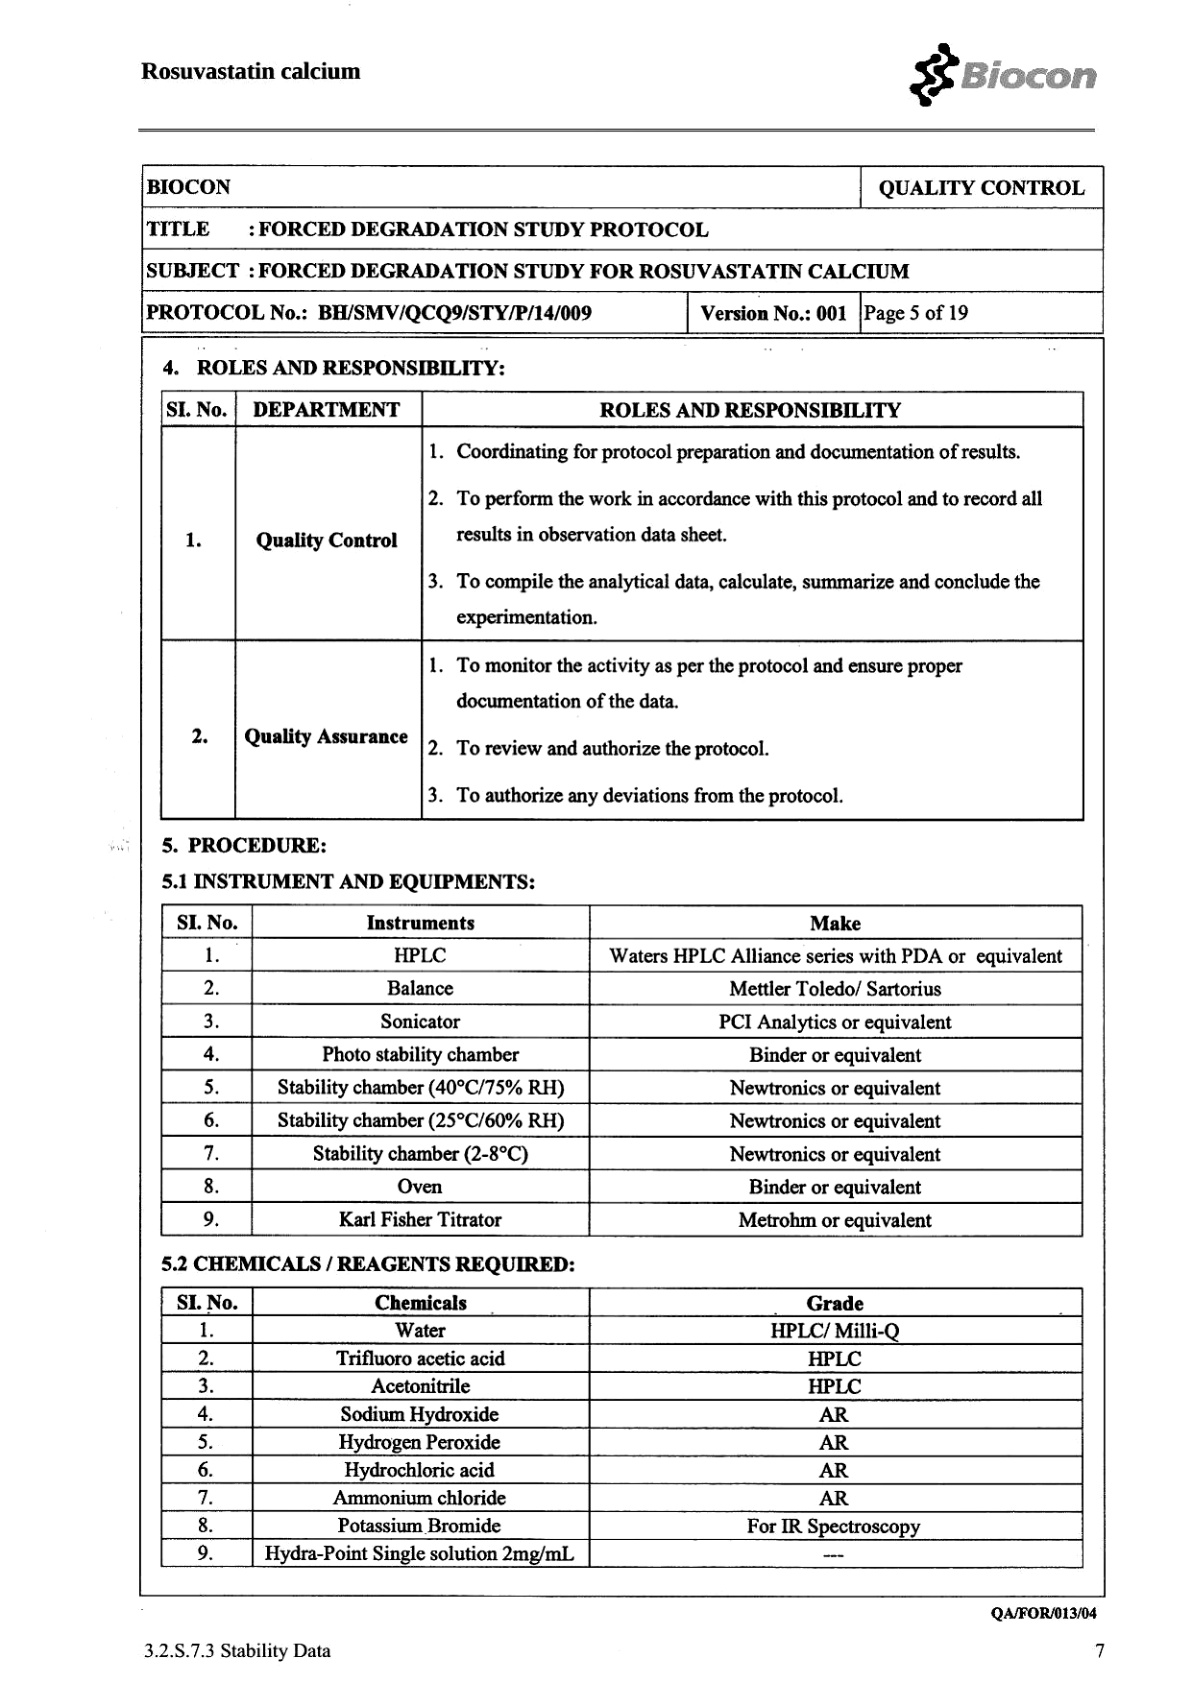full_lined: (159, 389, 1085, 822), (160, 901, 1084, 1238), (159, 1286, 1084, 1568), (139, 162, 1106, 335)
